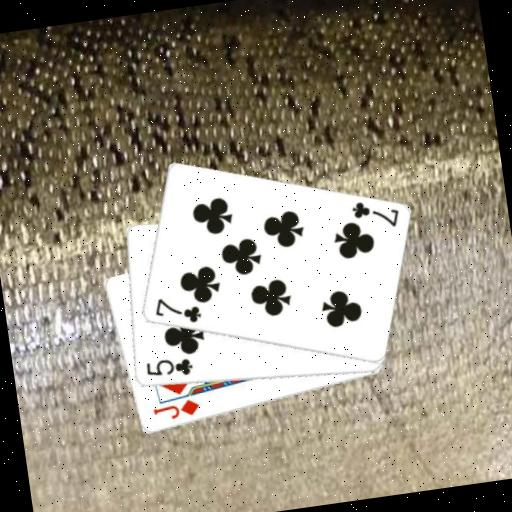5C: (141, 353, 194, 383)
7C: (348, 194, 403, 235), (150, 290, 204, 330)
JD: (149, 396, 202, 424)
